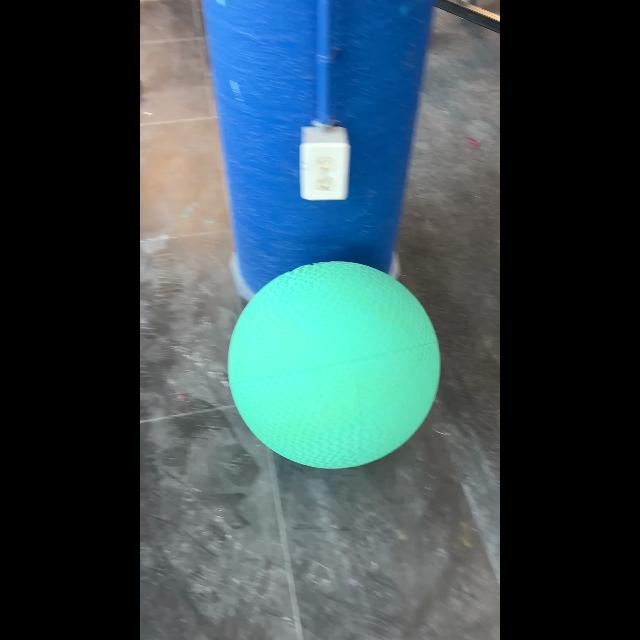ALGAE: (226, 260, 442, 470)
